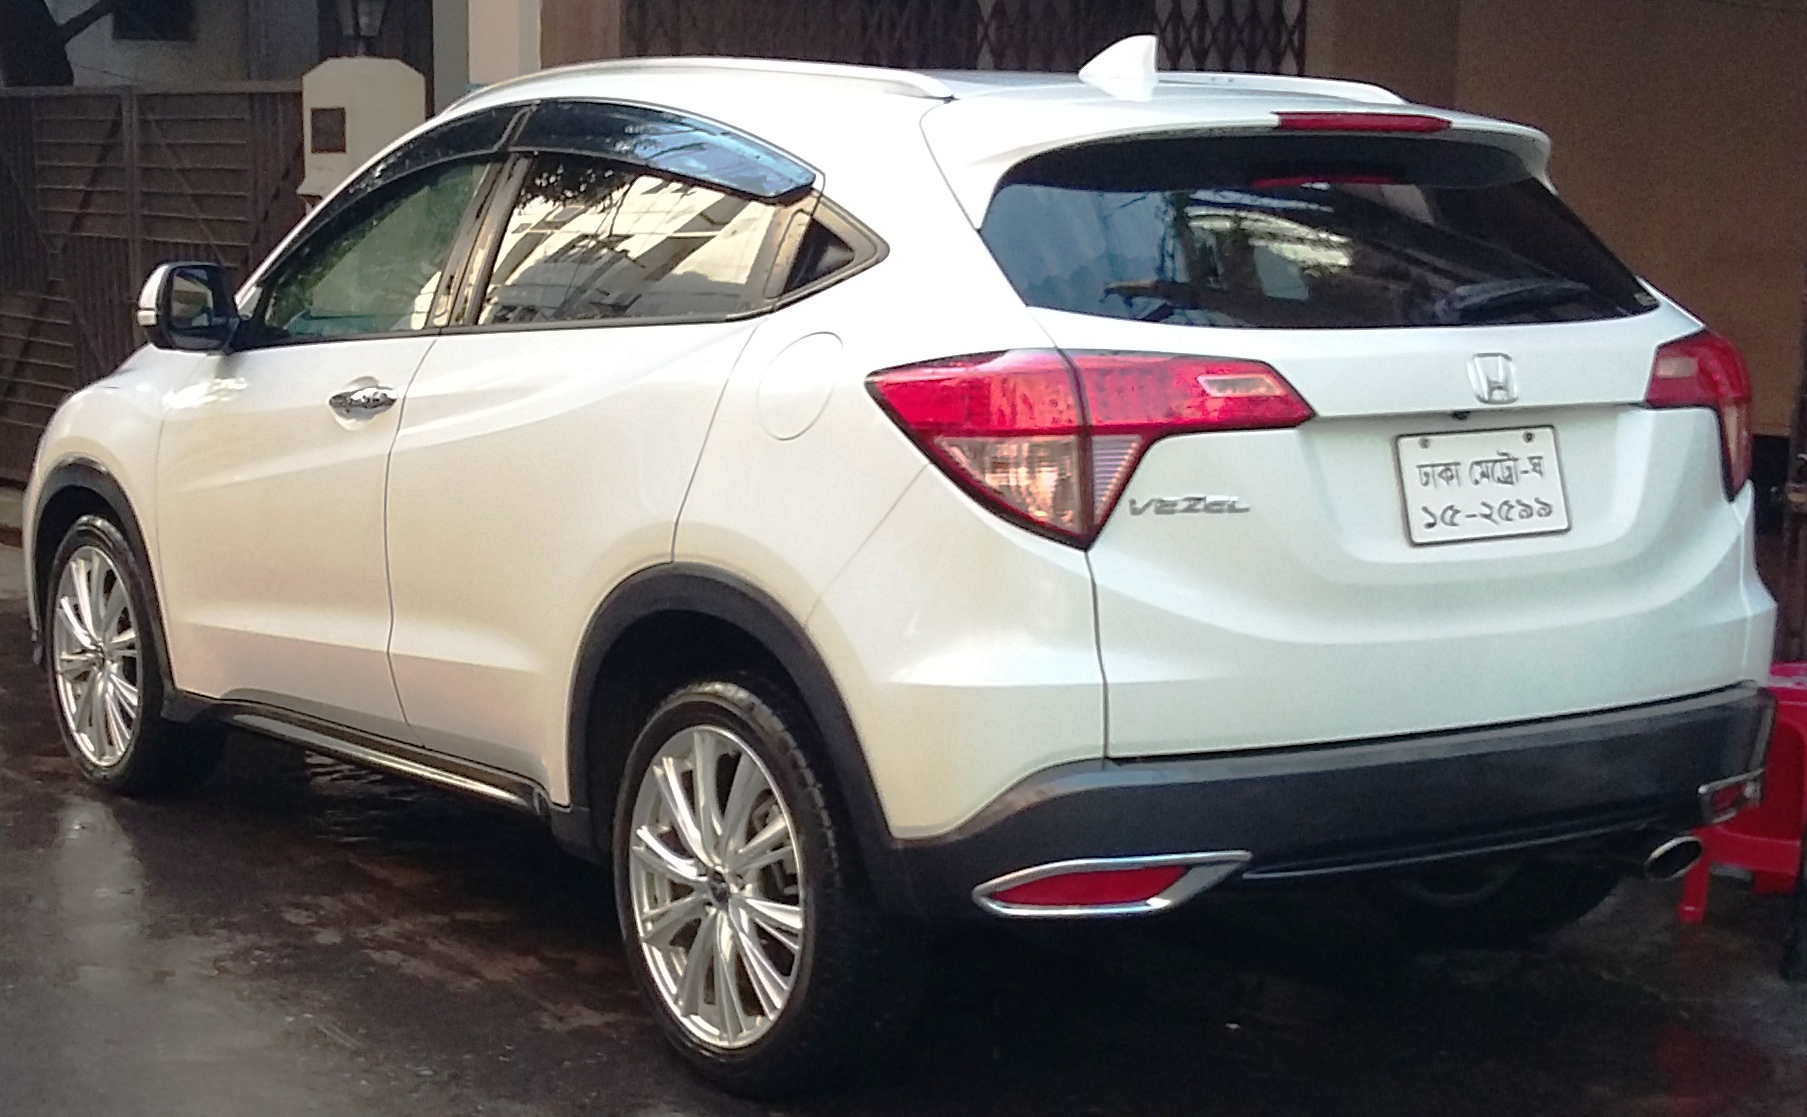registration_plate: (1391, 419, 1575, 549)
